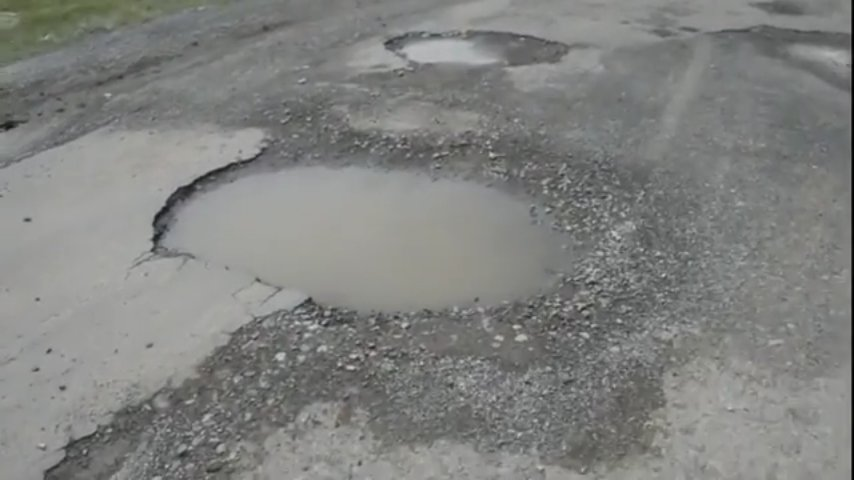pothole: (338, 194, 510, 328), (545, 364, 686, 480)
